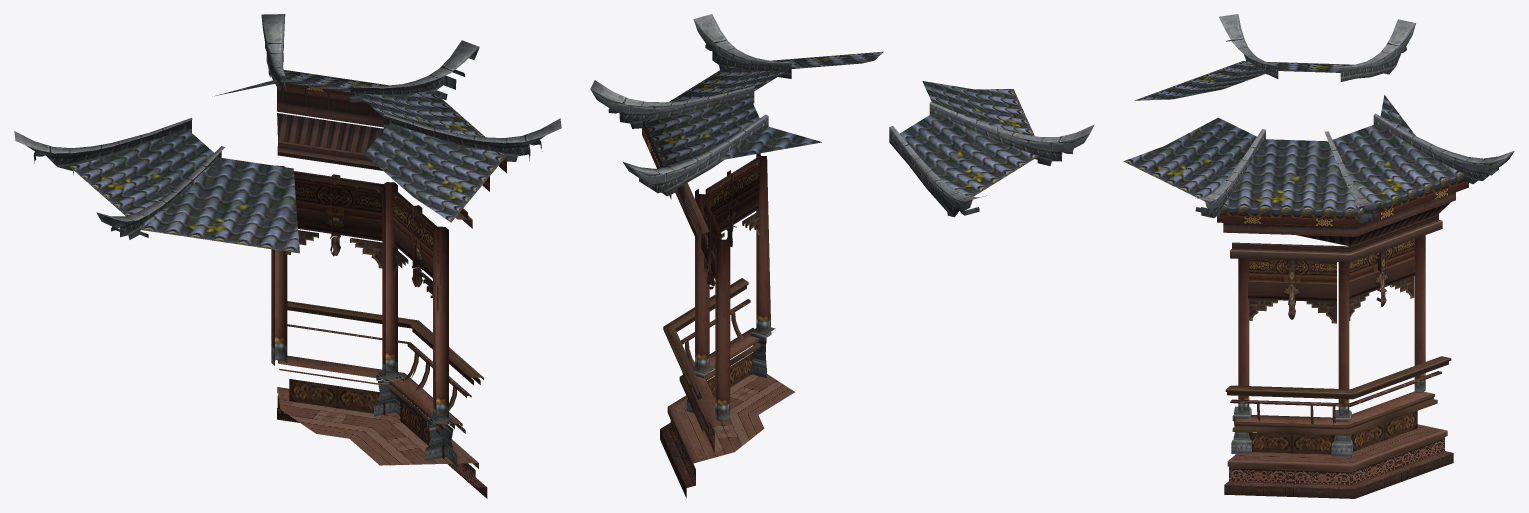
File: S2_Build_XSC021b_H2.FBX
3 renders of one model, left to right at view 1: azimuth 30°, elevation 25°; view 2: azimuth 150°, elevation 25°; view 3: azimuth 270°, elevation 25°, orthographic. The views are drawn at different scales.
Parts seen in each view (by area): view 1: S2_Build_XSC021b_H2; view 2: S2_Build_XSC021b_H2; view 3: S2_Build_XSC021b_H2.
Boxes of the visible parts, box(x1,y1,x2,y2) form: S2_Build_XSC021b_H2: box(14, 14, 561, 498); S2_Build_XSC021b_H2: box(590, 14, 1094, 498); S2_Build_XSC021b_H2: box(1123, 14, 1514, 498).
Size of the model in its own units: 5061 by 4095 by 4382.
